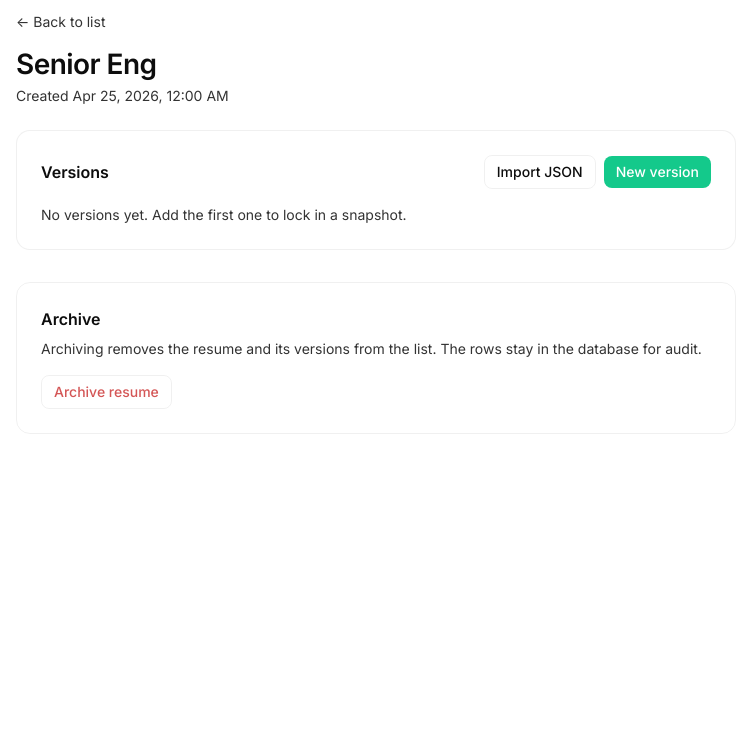
Test case: ResumeDetail › shows an inline error when document is a JSON array (not an object)
Click the button with test id "resume-detail-new-version-toggle" at (657, 172), box [604,156,711,188]
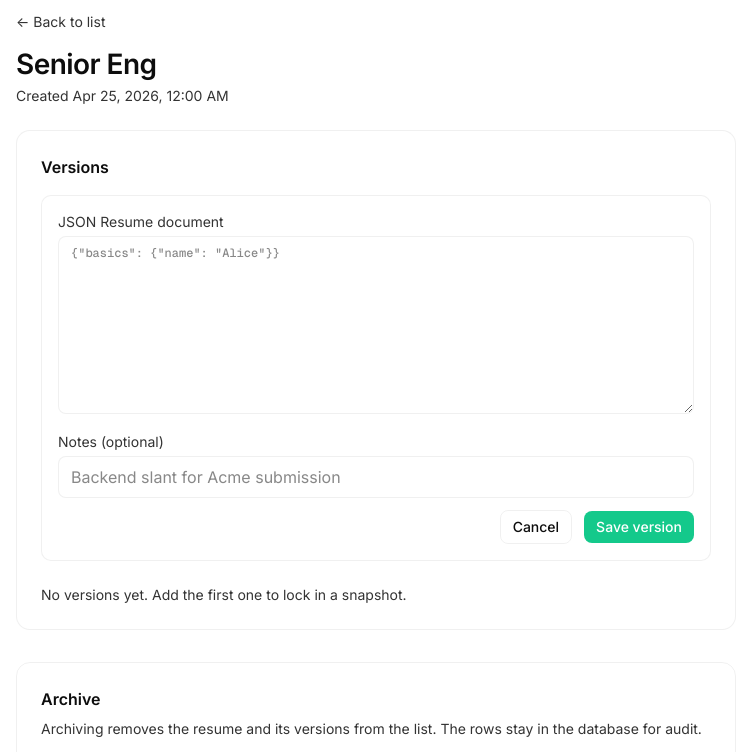
Type "[1,2,3]" into the text box with test id "resume-detail-new-version-document" at (376, 325), box [58,236,694,414]
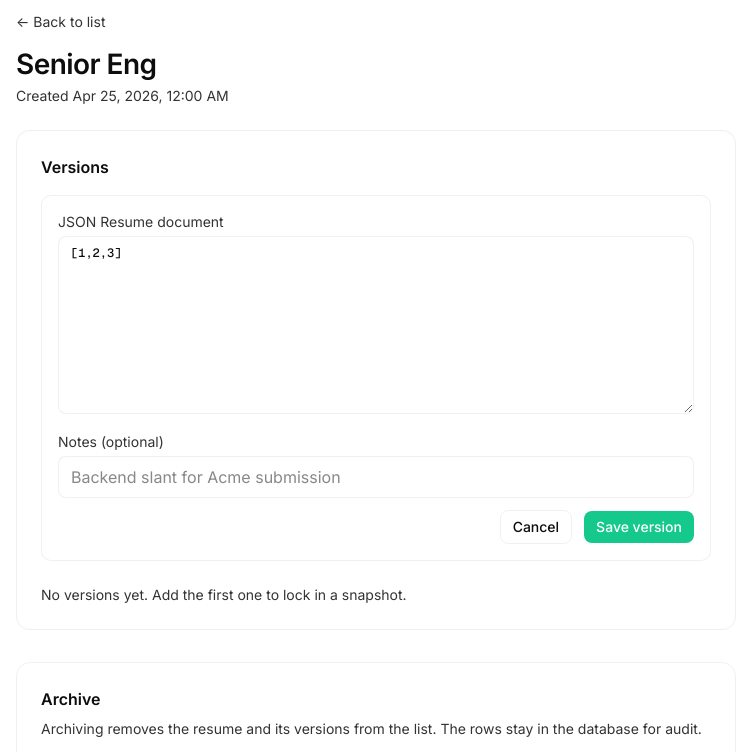
Submit the form with test id "resume-detail-new-version-form", box [41,195,711,561]
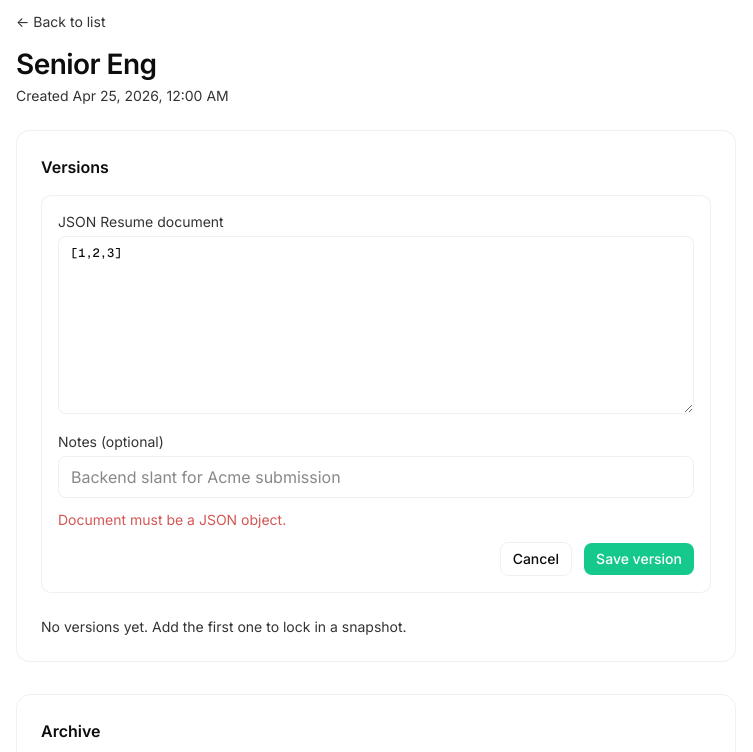
Now the message with test id "resume-detail-new-version-error" shows "must be a JSON object", box [58,511,286,528]
